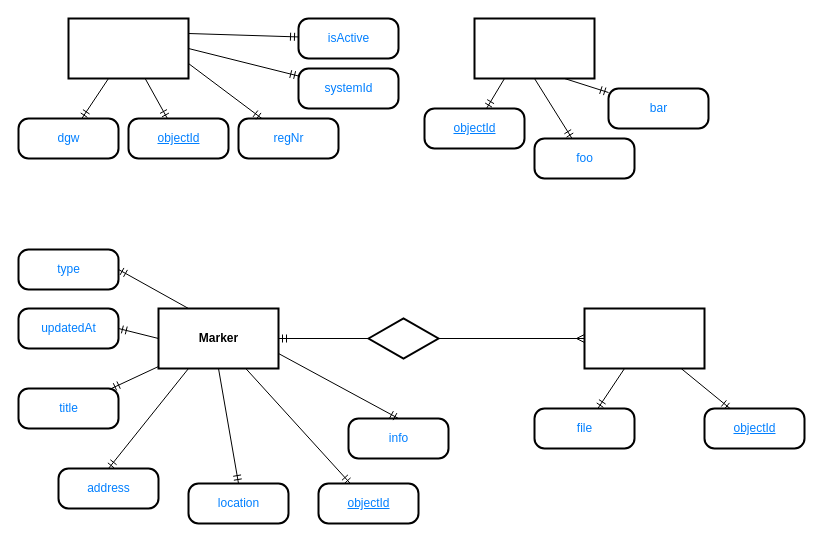
The diagram is 822 pixels wide and 541 high, and some of its shapes have lost their labels. Here are the shapes that lost their labels. From the top down, the box of each, then its label:
(67, 17, 189, 79): Bus
(473, 17, 595, 79): TestObject
(367, 317, 439, 359): has
(583, 307, 705, 369): Image
